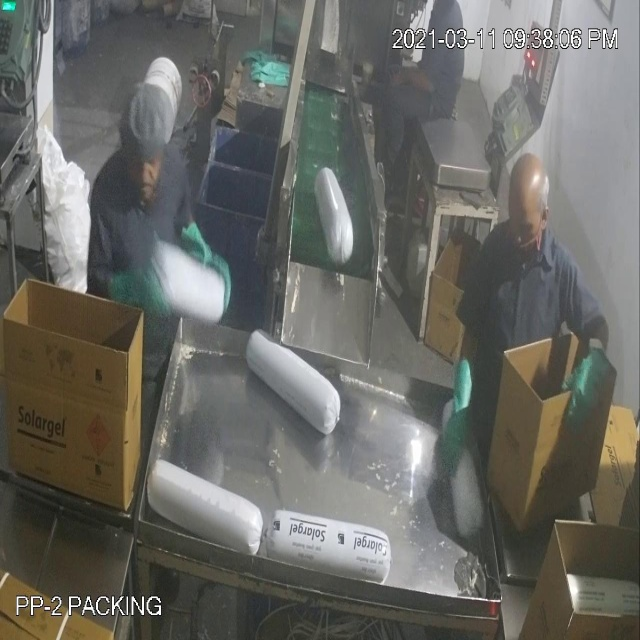Guantes: (558, 335, 613, 448), (436, 348, 477, 487)
Sin_guantes: (390, 57, 443, 109)
